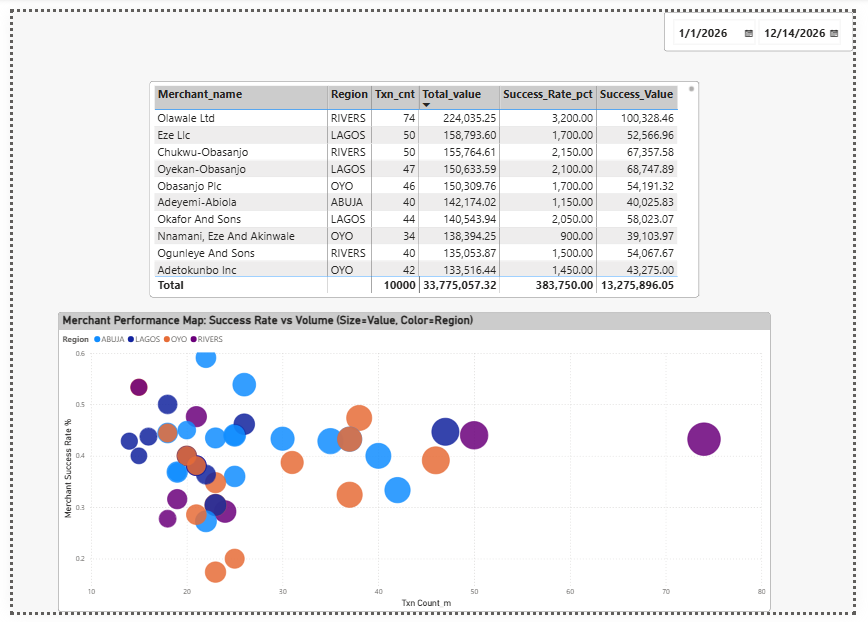

What the dashboard file says about the page in this screenshot:
{"tool":"powerbi","page":{"name":"Merchant Insights (Rankings + risk signals)","canvas":[1400,1000],"ordinal":2},"visuals":[{"type":"tableEx","fields":{"Values":["gold fact_merchant_daily.merchant_name","gold fact_merchant_daily.region","Sum(gold fact_merchant_daily.txn_cnt)","Sum(gold fact_merchant_daily.total_value)","Sum(gold fact_merchant_daily.success_rate_pct)","Sum(gold fact_merchant_daily.success_value)"]},"box":[226.8,114.3,916.1,360.7],"z":0},{"type":"scatterChart","title":"Merchant Performance Map: Success Rate vs Volume (Size=Value, Color=Region)","fields":{"Size":["Sum(gold fact_merchant_daily.total_value)"],"Y":["gold fact_merchant_daily.Merchant Success Rate %"],"Series":["gold fact_merchant_daily.Region"],"X":["gold fact_merchant_daily.Txn Count_m"],"Category":["gold fact_merchant_daily.Merchant_name"]},"box":[75,500,1187.5,500],"z":1000},{"type":"slicer","fields":{"Values":["Date.Date"]},"box":[1085,0,315,65],"z":1001}]}

Visuals, with their boxes in screenshot pixels (x1, y1, x2, y2), scaled from the page's 1400x1000 canvas onto the 868x622 screenshot:
tableEx - gold fact_merchant_daily.merchant_name x gold fact_merchant_daily.region: bbox=[141, 71, 709, 295]
"Merchant Performance Map: Success Rate vs Volume (Size=Value, Color=Region)" scatterChart: bbox=[46, 311, 783, 621]
slicer - Date.Date: bbox=[673, 0, 867, 40]
